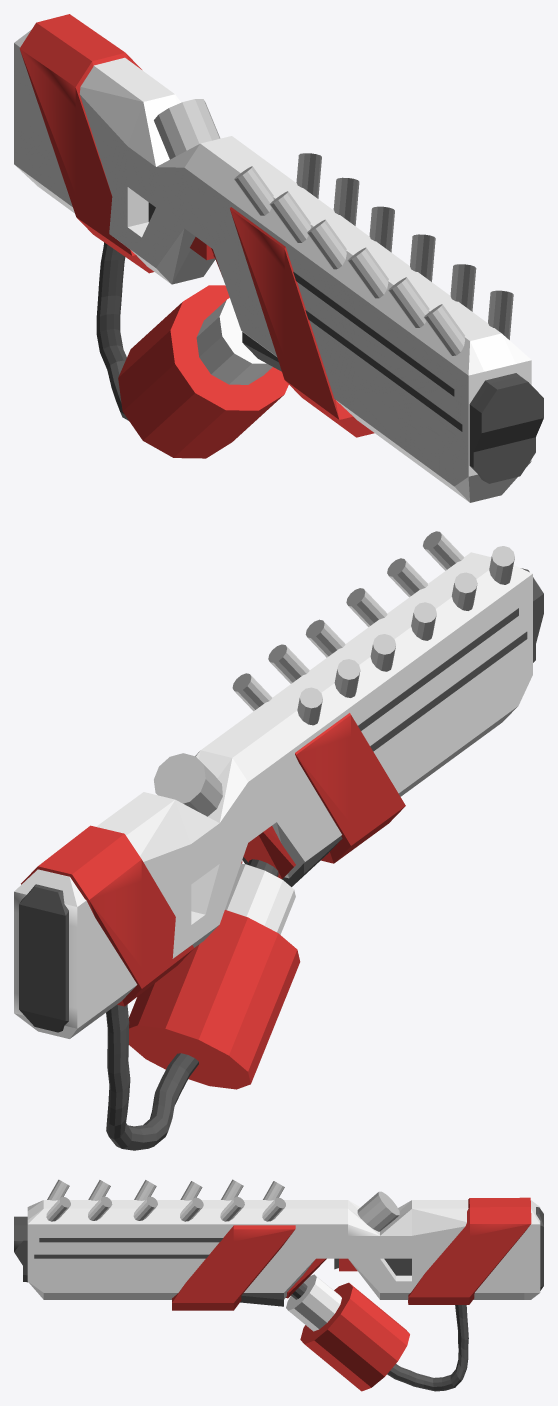
File: rifle_red.gltf
3 views of the same model, one above another, from view 1: azimuth 30°, elevation 25°; view 2: azimuth 150°, elevation 25°; view 3: azimuth 270°, elevation 25° (orthographic). The views are drawn at different scales.
Parts seen in each view (by area): view 1: group265768751, group201997025, group1638908236, group684696646, group1494860363, group2056391109, group1088588955, group1790223731, group616640639, group1093921766, group1110261251; view 2: group265768751, group201997025, group1638908236, group684696646, group1538806949, group1790223731, group1088588955, group2056391109, group616640639, group1372893271, group1093921766, group1110261251 (+1 smaller); view 3: group265768751, group201997025, group1638908236, group684696646, group1088588955, group1790223731, group2056391109, group1494860363, group616640639, group1606866373, group110904487, group1440918819 (+2 smaller).
Boxes of the visible parts, x1,y1,x2,y2 form: group265768751: (14,30,531,502); group201997025: (118,285,288,458); group1638908236: (19,14,153,273); group684696646: (230,207,374,437); group1494860363: (242,332,543,483); group2056391109: (234,166,464,355); group1088588955: (296,153,513,339); group1790223731: (96,242,128,420); group616640639: (154,99,220,159); group1093921766: (293,271,454,396); group1110261251: (305,310,462,431); group265768751: (14,552,532,1038); group201997025: (129,859,300,1089); group1638908236: (21,825,194,1006); group684696646: (295,713,405,863); group1538806949: (19,884,68,1032); group1790223731: (106,1004,198,1150); group1088588955: (232,531,463,711); group2056391109: (297,546,514,725); group616640639: (154,753,222,816); group1372893271: (243,826,295,878); group1093921766: (358,608,518,730); group1110261251: (370,631,527,751); group265768751: (27,1200,540,1299); group201997025: (286,1274,409,1391); group1638908236: (408,1197,531,1304); group684696646: (172,1225,295,1310); group1088588955: (46,1196,285,1221); group1790223731: (387,1305,468,1391); group2056391109: (47,1179,284,1200); group1494860363: (14,1216,283,1306); group616640639: (357,1191,399,1231); group1606866373: (39,1238,223,1242); group110904487: (34,1254,209,1258); group1440918819: (384,1258,411,1275).
Size of the model in its own units: 0.1721 by 0.4927 by 1.16.
